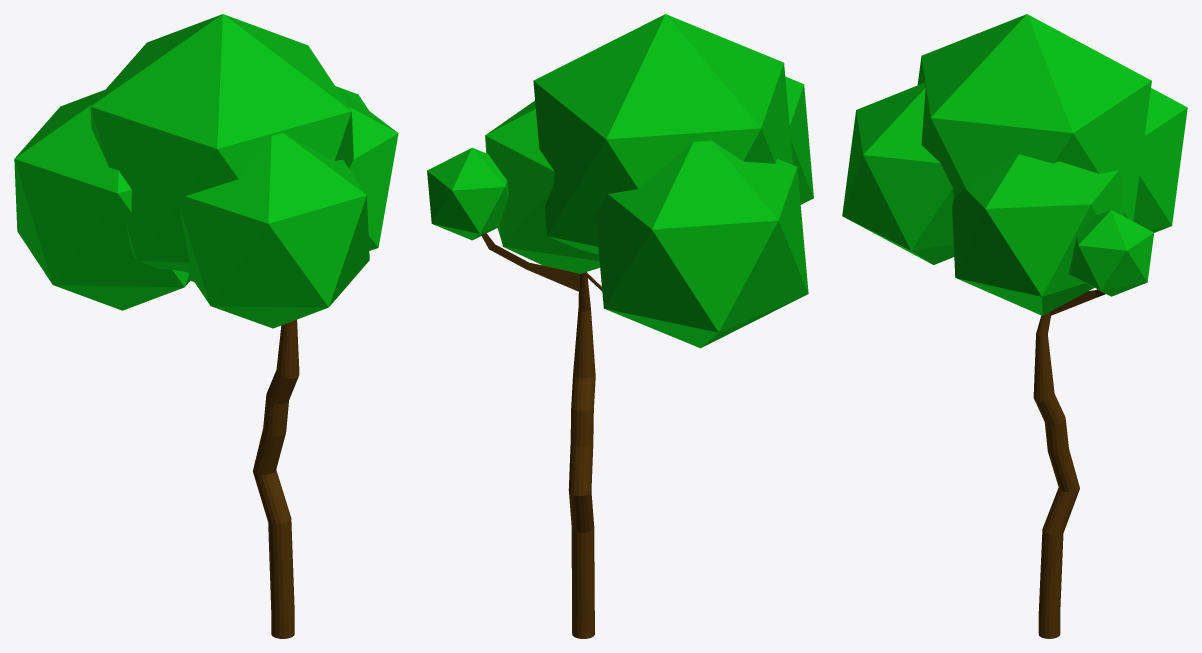
File: tree_2.fbx
3 views of the same model, side by side, from view 1: azimuth 30°, elevation 25°; view 2: azimuth 150°, elevation 25°; view 3: azimuth 270°, elevation 25° (orthographic). The views are drawn at different scales.
Parts seen in each view (by area): view 1: Tree4; view 2: Tree4; view 3: Tree4.
Part boxes in pixels (x1=…): Tree4: x1=14, y1=14, x2=398, y2=638; Tree4: x1=427, y1=14, x2=813, y2=638; Tree4: x1=842, y1=14, x2=1187, y2=638.
Bounding box in the file's own units: 190 × 332 × 177.
